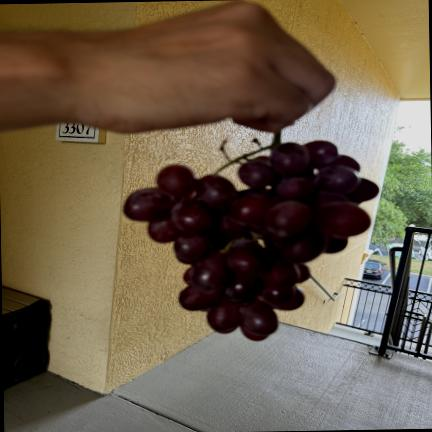grape_cluster: (124, 133, 379, 340)
